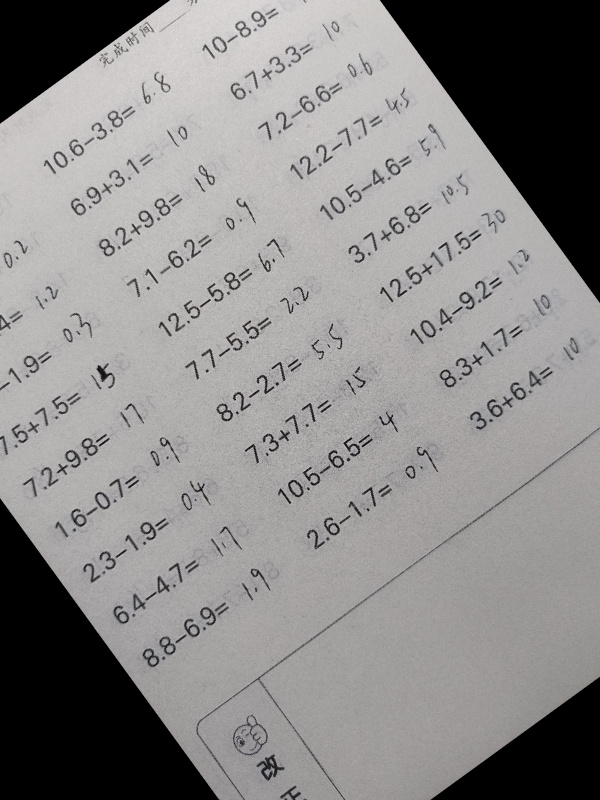equation: (285, 72, 433, 182), (302, 439, 449, 549), (436, 279, 583, 389), (274, 396, 421, 506), (378, 196, 525, 306), (212, 313, 359, 423), (155, 231, 302, 341), (94, 148, 241, 258), (38, 65, 185, 175), (138, 559, 285, 668), (108, 516, 255, 625), (406, 237, 553, 346), (243, 355, 390, 464), (79, 473, 226, 582), (52, 430, 199, 539), (344, 155, 491, 264), (182, 272, 329, 381), (21, 388, 168, 497), (316, 113, 463, 222), (124, 189, 271, 298), (255, 33, 402, 142), (66, 108, 213, 217), (0, 346, 138, 456), (226, 0, 373, 103), (464, 322, 600, 431), (0, 305, 109, 414), (198, 0, 345, 62), (0, 264, 81, 374), (0, 223, 52, 333), (0, 184, 24, 293)
